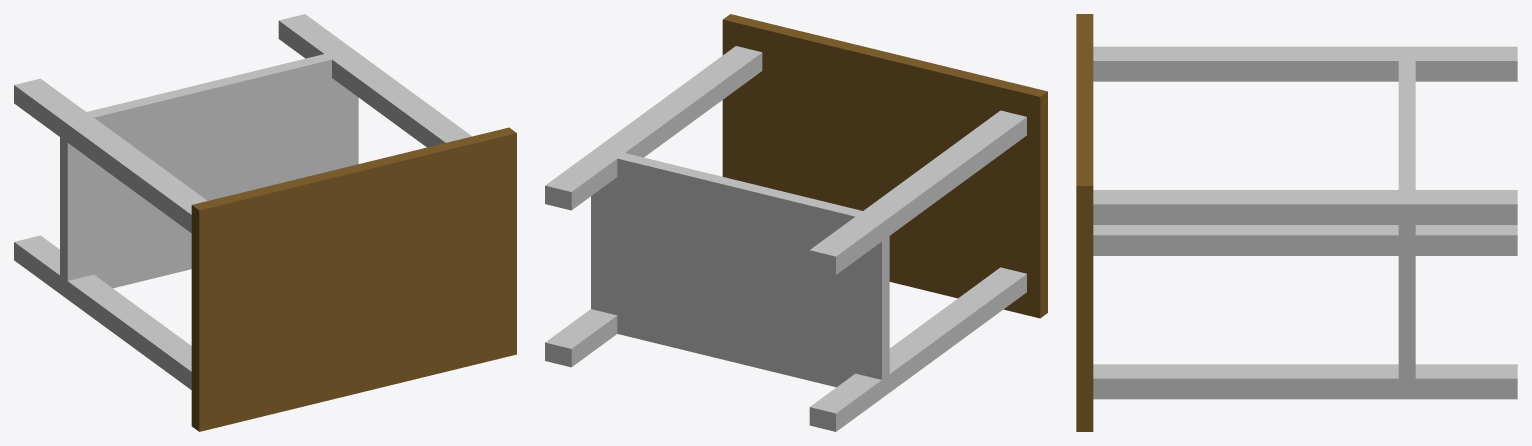
File: demo_table.glb
The picture shows the model from 3 angles, left to right: view 1: azimuth 30°, elevation 25°; view 2: azimuth 150°, elevation 25°; view 3: azimuth 270°, elevation 25°; orthographic projection. The views are drawn at different scales.
Parts seen in each view (by area): view 1: demo_table; view 2: demo_table; view 3: demo_table.
Boxes of the visible parts, box(x1,y1,x2,y2) form: demo_table: box(14, 14, 516, 431); demo_table: box(545, 14, 1047, 431); demo_table: box(1076, 14, 1517, 431).
Bounding box in the file's own units: 0.9144 × 0.6096 × 0.9906.
